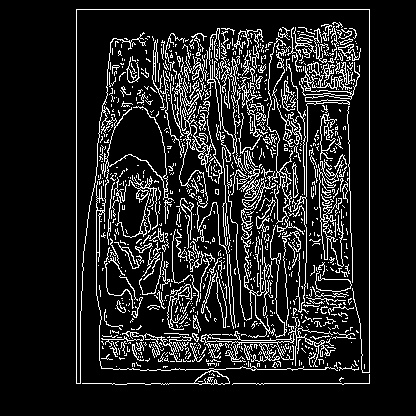buddha-standing: (43, 209, 258, 244)
